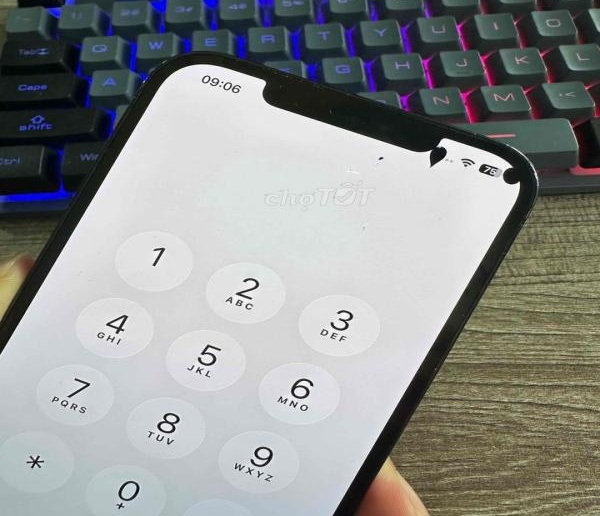screen_defect: (345, 90, 548, 217)
